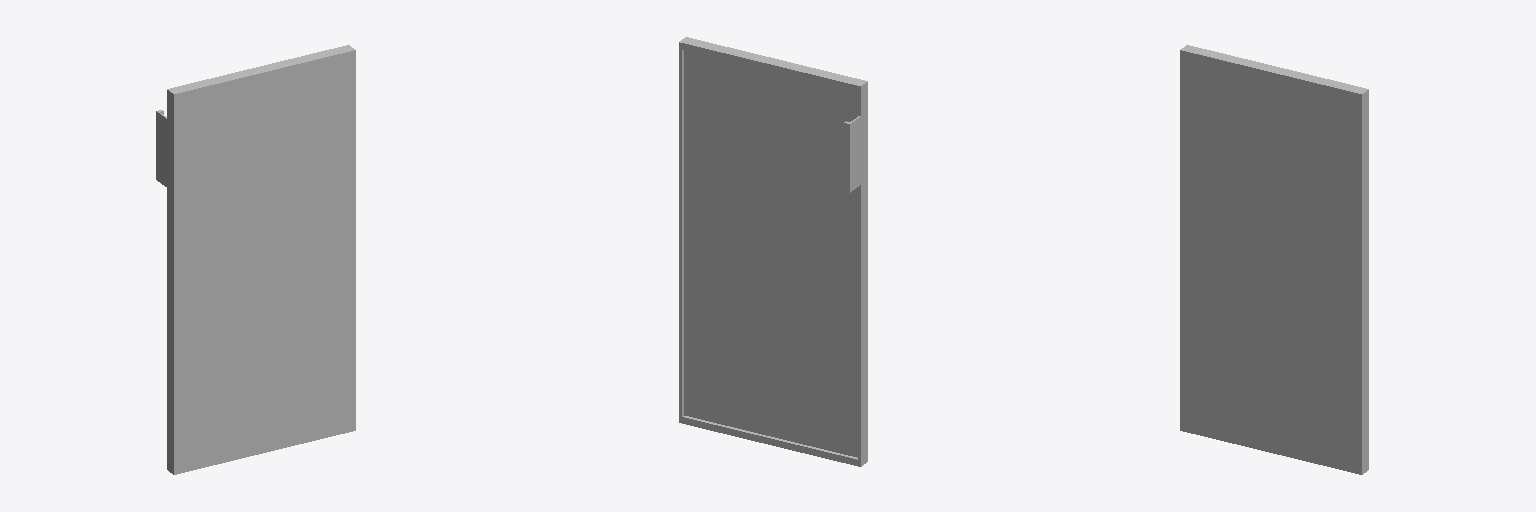
File: pizarra2.obj
3 renders of one model, left to right at view 1: azimuth 30°, elevation 25°; view 2: azimuth 150°, elevation 25°; view 3: azimuth 330°, elevation 25°, orthographic.
Parts seen in each view (by area): view 1: Cube; view 2: Cube; view 3: Cube.
Part boxes in pixels (x1,y1,x2,y2): Cube: (156,45,355,474); Cube: (679,37,867,466); Cube: (1180,45,1368,474).
Size of the model in its own units: 25 by 50 by 4.27.